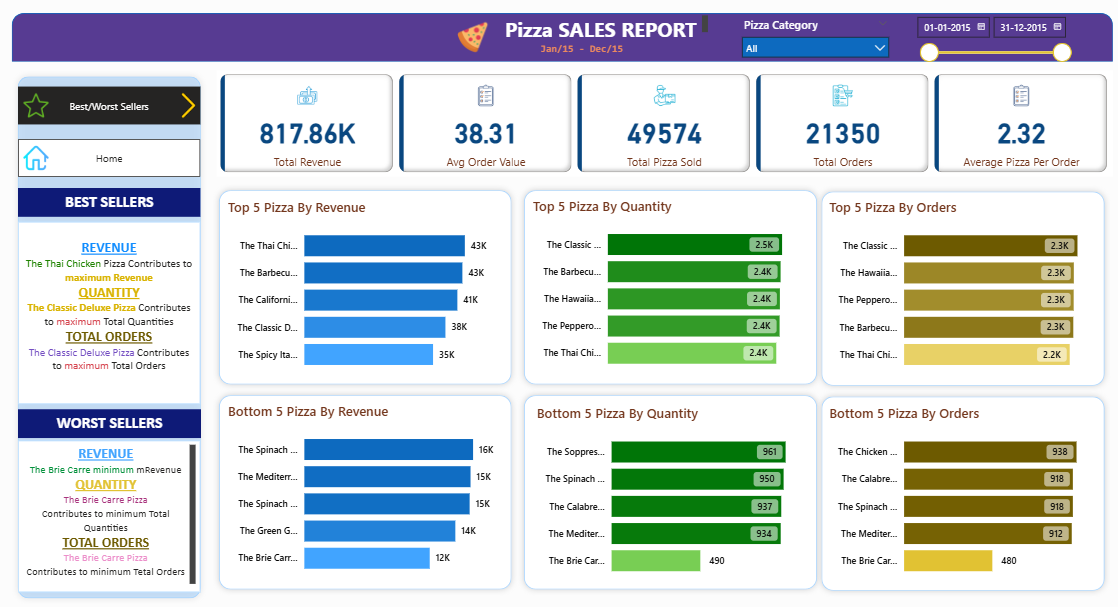

What the dashboard file says about the page in this screenshot:
{"tool":"powerbi","page":{"name":"Best/Worst Sellers","canvas":[1500,820],"ordinal":1},"visuals":[{"type":"shape","box":[18.3,96.7,260,711.7],"z":0},{"type":"cardVisual","fields":{"Data":["pizza_sales.Total Revenue","pizza_sales.Avg Order Value","pizza_sales.Total Pizza Sold","pizza_sales.Total Orders","pizza_sales.Average Pizza Per Order"]},"box":[291.7,96.7,1195,141.7],"z":1000},{"type":"shape","box":[18.3,20,1468.3,65],"z":2000},{"type":"textbox","box":[664.4,18.9,286.7,50],"z":3000},{"type":"textbox","box":[718.3,53.3,135.8,31.7],"z":4000},{"type":"image","box":[601.7,26.7,61.7,51.7],"z":5000},{"type":"shape","box":[287.3,249,406,275],"z":6000},{"type":"textbox","box":[26.7,253.3,243.3,38.3],"z":7000},{"type":"textbox","box":[26.9,297.7,243.1,243.1],"z":8000},{"type":"textbox","box":[26,548,244,38],"z":9000},{"type":"textbox","box":[26.9,590.8,243.1,202.3],"z":10000},{"type":"slicer","fields":{"Values":["pizza_sales.pizza_category"]},"box":[981.7,20,216.7,70],"z":11000},{"type":"slicer","fields":{"Values":["pizza_sales.order_date"]},"box":[1213.3,15,226.7,76.7],"z":12000},{"type":"shape","box":[694,249,406.7,275],"z":13000},{"type":"shape","box":[1090.7,250.7,393.3,275],"z":14000},{"type":"shape","box":[286.7,521.7,406,275],"z":15000},{"type":"shape","box":[693.3,521.7,406.7,275],"z":16000},{"type":"shape","box":[1090,523.3,393.3,275],"z":17000},{"type":"barChart","title":"Top 5 Pizza By Revenue","fields":{"Category":["pizza_sales.pizza_name"],"Y":["pizza_sales.Total Revenue"]},"box":[301.7,266.7,376.7,243.3],"z":18000},{"type":"barChart","title":"Bottom 5 Pizza By Revenue","fields":{"Category":["pizza_sales.pizza_name"],"Y":["pizza_sales.Total Revenue"]},"box":[301.7,538.3,376.7,243.3],"z":19000},{"type":"barChart","title":"Top 5 Pizza By Quantity","fields":{"Category":["pizza_sales.pizza_name"],"Y":["pizza_sales.Total Pizza Sold"]},"box":[708.3,265,366.7,243.3],"z":20000},{"type":"barChart","title":"Bottom 5 Pizza By Quantity","fields":{"Category":["pizza_sales.pizza_name"],"Y":["pizza_sales.Total Pizza Sold"]},"box":[713.3,541.7,366.7,243.3],"z":21000},{"type":"barChart","title":"Top 5 Pizza By Orders","fields":{"Category":["pizza_sales.pizza_name"],"Y":["pizza_sales.Total Orders"]},"box":[1103.3,266.7,366.7,243.3],"z":22000},{"type":"barChart","title":"Bottom 5 Pizza By Orders","fields":{"Category":["pizza_sales.pizza_name"],"Y":["pizza_sales.Total Orders"]},"box":[1103.3,541.7,366.7,243.3],"z":23000},{"type":"pageNavigator","box":[26.7,118.3,243.3,50],"z":24000},{"type":"pageNavigator","box":[26.7,188.3,243.3,50],"z":25000},{"type":"image","box":[230,121.7,48.3,43.3],"z":26000},{"type":"image","box":[26.7,191.7,48.3,43.3],"z":27000},{"type":"image","box":[26.7,121.7,48.3,43.3],"z":28000}]}

Visuals, with their boxes in screenshot pixels (x1, y1, x2, y2), scaled from the page's 1500x820 canvas onto the 1118x607 screenshot:
shape: (14, 72, 207, 598)
cardVisual - pizza_sales.Total Revenue x pizza_sales.Avg Order Value: (217, 72, 1108, 176)
shape: (14, 15, 1108, 63)
textbox: (495, 14, 709, 51)
textbox: (535, 39, 637, 63)
image: (448, 20, 494, 58)
shape: (214, 184, 517, 388)
textbox: (20, 188, 201, 216)
textbox: (20, 220, 201, 400)
textbox: (19, 406, 201, 434)
textbox: (20, 437, 201, 587)
slicer - pizza_sales.pizza_category: (732, 15, 893, 67)
slicer - pizza_sales.order_date: (904, 11, 1073, 68)
shape: (517, 184, 820, 388)
shape: (813, 186, 1106, 389)
shape: (214, 386, 516, 590)
shape: (517, 386, 820, 590)
shape: (812, 387, 1106, 591)
"Top 5 Pizza By Revenue" barChart: (225, 197, 506, 378)
"Bottom 5 Pizza By Revenue" barChart: (225, 398, 506, 579)
"Top 5 Pizza By Quantity" barChart: (528, 196, 801, 376)
"Bottom 5 Pizza By Quantity" barChart: (532, 401, 805, 581)
"Top 5 Pizza By Orders" barChart: (822, 197, 1096, 378)
"Bottom 5 Pizza By Orders" barChart: (822, 401, 1096, 581)
pageNavigator: (20, 88, 201, 125)
pageNavigator: (20, 139, 201, 176)
image: (171, 90, 207, 122)
image: (20, 142, 56, 174)
image: (20, 90, 56, 122)
